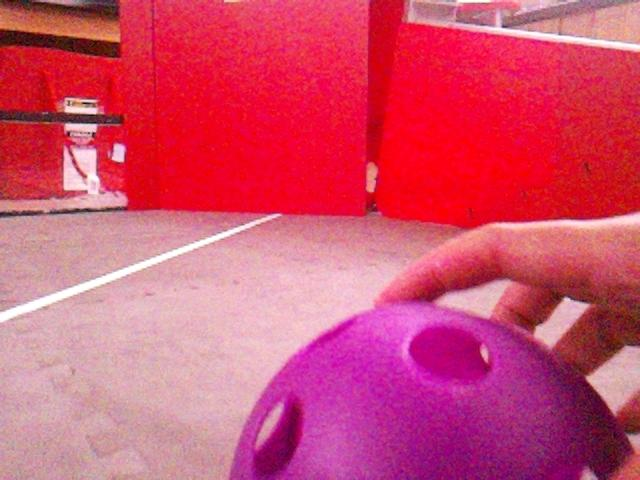Purple: (229, 301, 636, 480)
